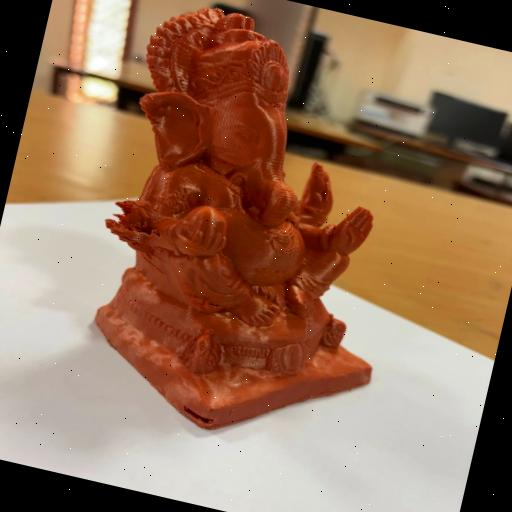cracks: (99, 186, 186, 258), (174, 390, 225, 442)
